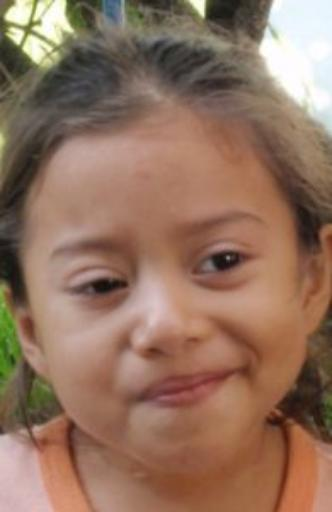left_eye: (190, 249, 260, 281)
left_lip_corner: (229, 359, 251, 382)
right_eye: (64, 275, 130, 301)
right_lip_corner: (130, 391, 150, 411)
